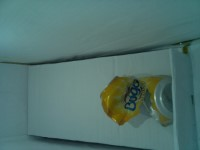kaleng: (100, 75, 175, 128)
